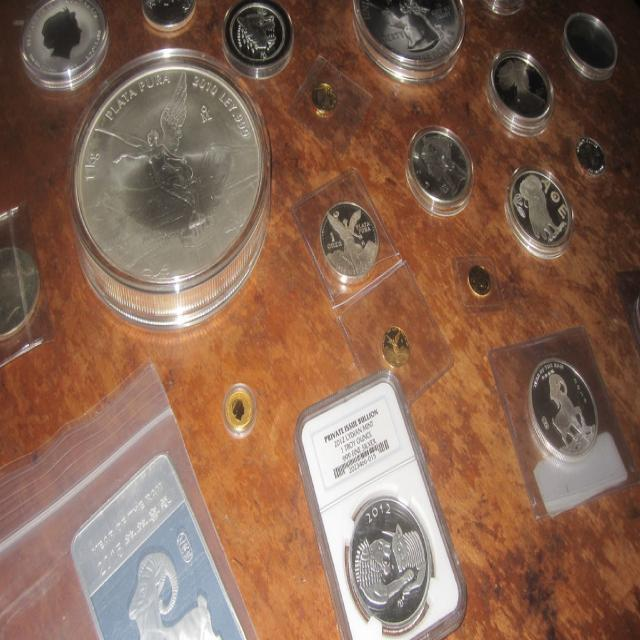Coin: (73, 56, 271, 322), (344, 489, 429, 632), (349, 0, 465, 88), (17, 0, 110, 89), (533, 367, 601, 466), (507, 169, 573, 261), (221, 0, 298, 78), (489, 47, 555, 135), (412, 123, 473, 209), (317, 201, 378, 283), (562, 3, 623, 78), (0, 246, 42, 339), (142, 0, 199, 37), (574, 133, 610, 177), (382, 322, 414, 369), (223, 387, 256, 431), (312, 76, 339, 118), (467, 264, 494, 301)
